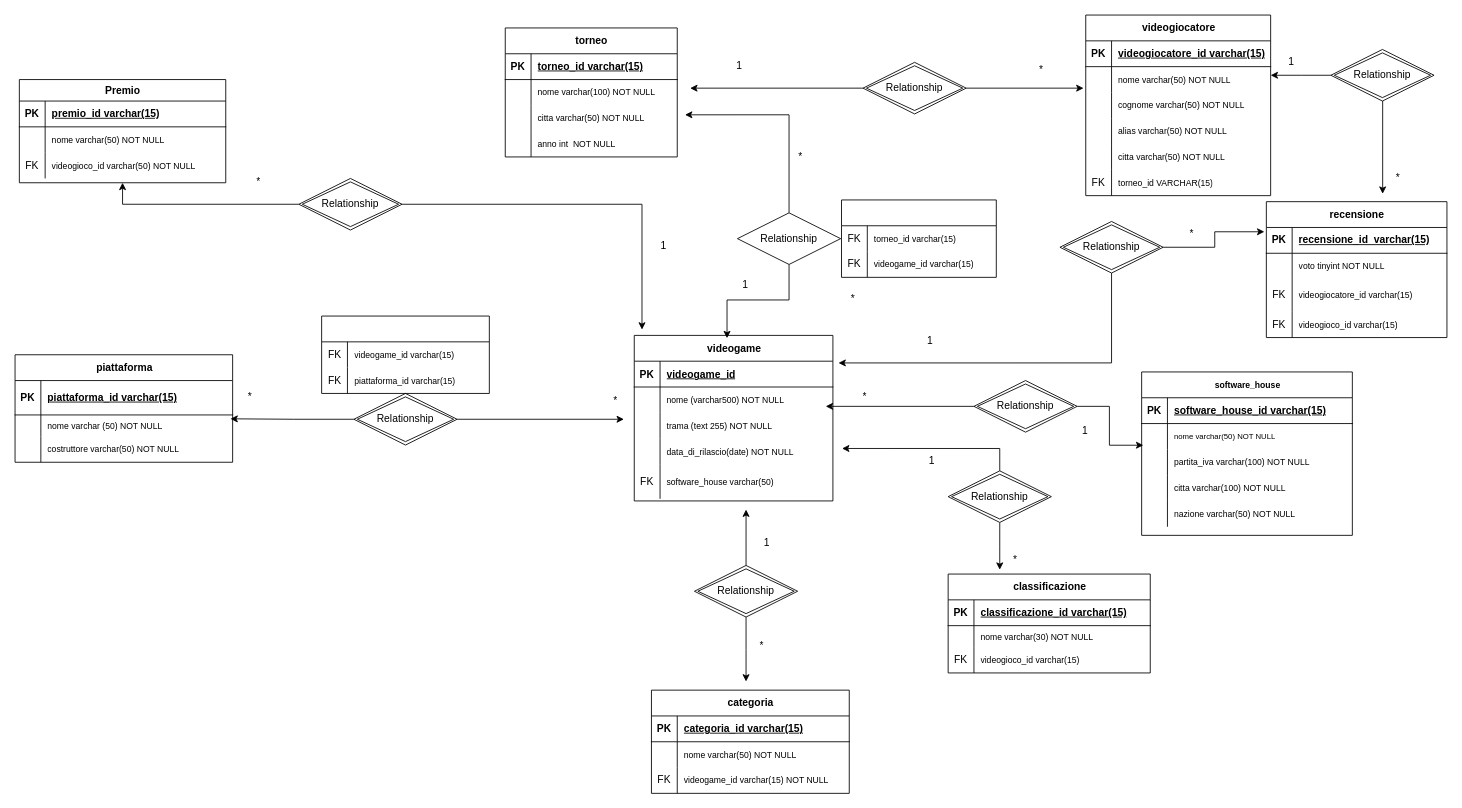
Some shapes in this 1462 by 808 pixel diagram are drawn without their labels. Here are the shapes that lost their labels. From the top down, the box of each, then its label:
(841, 199, 996, 277): torneo_videogame
(321, 315, 489, 393): videogame_piattaforma
